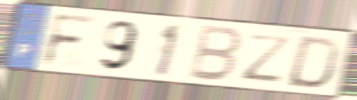1: (155, 22, 183, 79)
9: (97, 19, 140, 73)
B: (186, 22, 246, 84)
D: (283, 34, 344, 91)
F: (39, 11, 100, 69)
Z: (241, 32, 296, 84)
